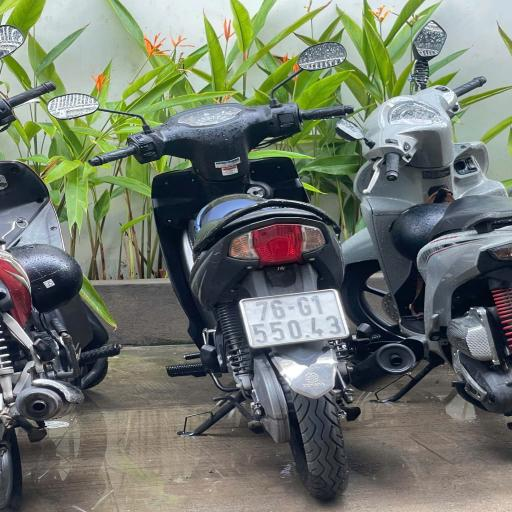0: (280, 318, 307, 344)
1: (309, 292, 328, 320)
3: (326, 313, 354, 341)
4: (302, 312, 328, 338)
5: (249, 320, 270, 347), (269, 322, 286, 343)
6: (269, 295, 288, 323)
7: (251, 298, 272, 325)
G: (296, 293, 314, 322)
